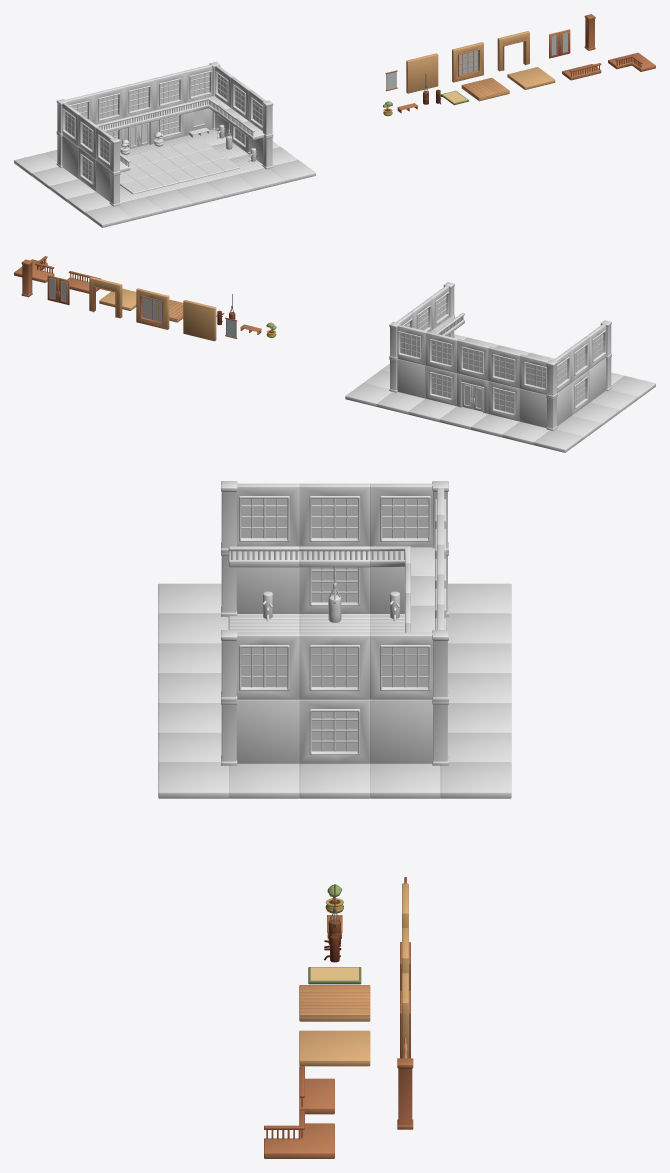
File: dojo mockup.fbx
3 renders of one model, top to bottom at view 1: azimuth 30°, elevation 25°; view 2: azimuth 150°, elevation 25°; view 3: azimuth 270°, elevation 25°, orthographic. The views are drawn at different scales.
Parts seen in each view (by area): view 1: dojo mockup, tile_wall_plain, tile_wall_window, tile_ground_wooden, tile_ground_plain, tile_wall_plain_door, tile_balcony_corner, tile_balcony, wall_column; view 2: dojo mockup, tile_wall_window, tile_wall_plain, tile_wall_plain_door, tile_balcony_corner, tile_ground_plain, wall_column, tile_balcony, door_left, tile_ground_wooden, door_right; view 3: dojo mockup, tile_ground_wooden, tile_ground_plain, tile_balcony_corner, tile_balcony, wall_column, tatami.
Part boxes in pixels (x1,y1,x2,y2): dojo mockup: [14, 61, 315, 227]; tile_wall_plain: [406, 53, 438, 93]; tile_wall_window: [452, 42, 483, 82]; tile_ground_wooden: [461, 77, 509, 101]; tile_ground_plain: [507, 67, 555, 89]; tile_wall_plain_door: [497, 31, 529, 71]; tile_balcony_corner: [608, 52, 655, 71]; tile_balcony: [562, 63, 601, 80]; wall_column: [584, 14, 595, 50]; dojo mockup: [345, 282, 655, 452]; tile_wall_window: [136, 288, 169, 329]; tile_wall_plain: [183, 300, 216, 341]; tile_wall_plain_door: [89, 277, 122, 318]; tile_balcony_corner: [14, 256, 54, 282]; tile_ground_plain: [99, 288, 136, 310]; wall_column: [21, 259, 32, 297]; tile_balcony: [67, 271, 100, 293]; door_left: [47, 275, 58, 302]; tile_ground_wooden: [169, 299, 183, 322]; door_right: [58, 278, 69, 304]; dojo mockup: [158, 481, 511, 798]; tile_ground_wooden: [299, 985, 370, 1021]; tile_ground_plain: [299, 1030, 370, 1066]; tile_balcony_corner: [264, 1110, 334, 1158]; tile_balcony: [299, 1066, 334, 1114]; wall_column: [397, 1058, 413, 1129]; tatami: [308, 967, 361, 984].
Size of the model in its own units: 38.02 by 4.33 by 10.03.
3 materials, 2 textured.
